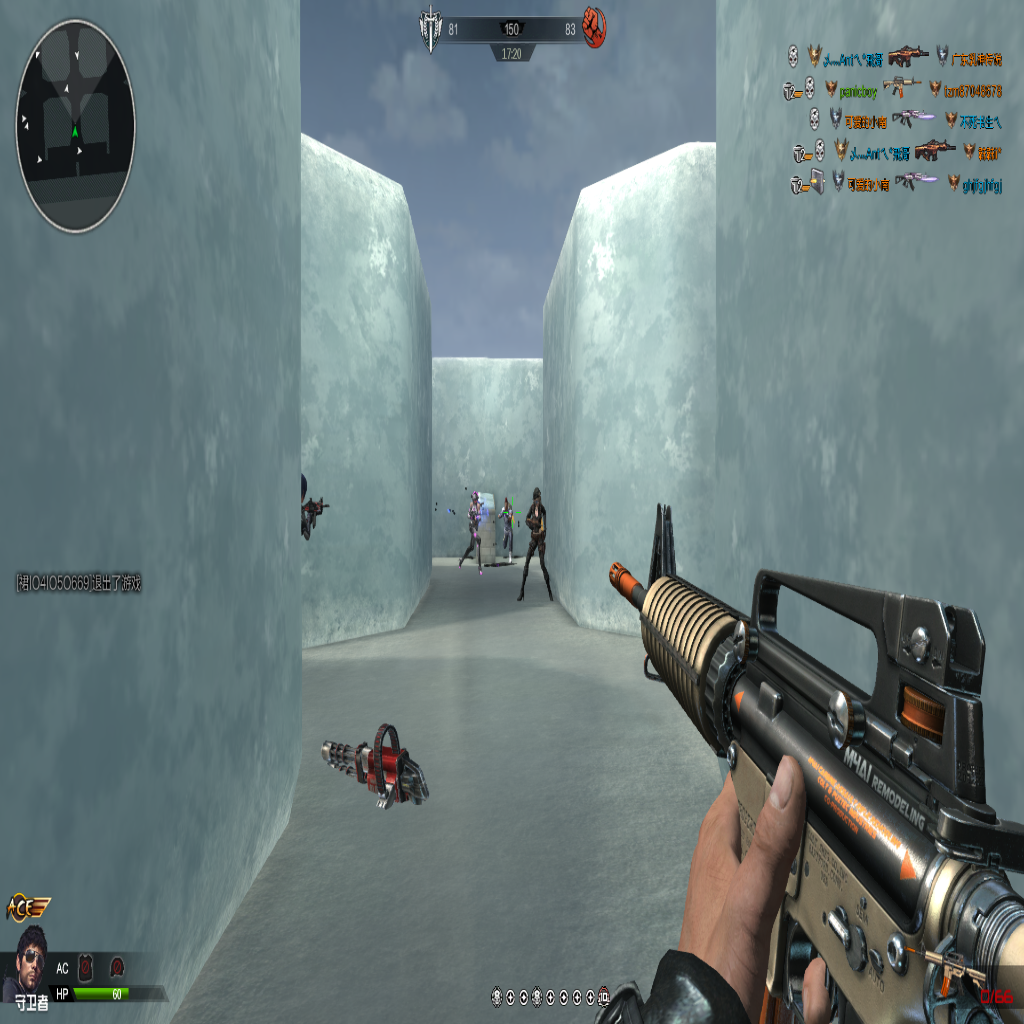ct: (517, 484, 550, 604)
tt: (461, 492, 486, 571), (499, 494, 516, 565)
